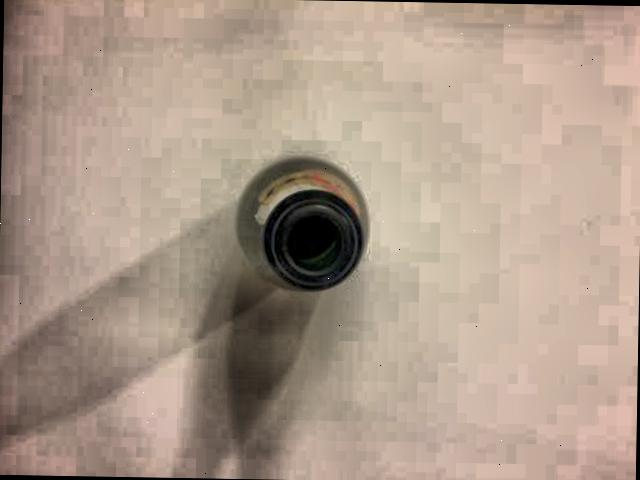Bottles: (184, 144, 408, 330)
